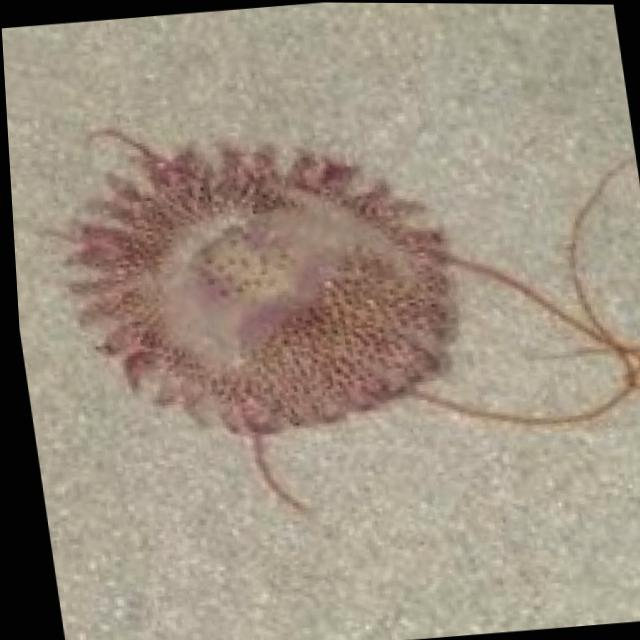Jellyfish: (13, 77, 640, 535)
